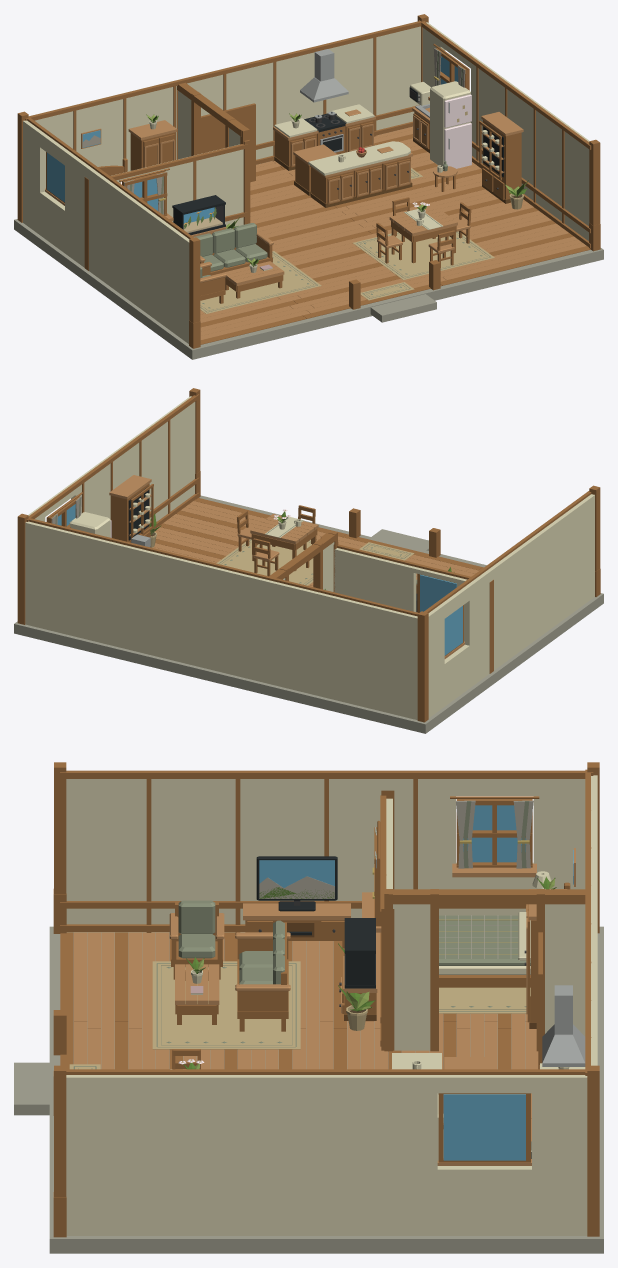
The model's file is HouseInterior_Lv3.fbx.
3 renders of one model, top to bottom at view 1: azimuth 30°, elevation 25°; view 2: azimuth 150°, elevation 25°; view 3: azimuth 270°, elevation 25°, orthographic. The views are drawn at different scales.
Parts seen in each view (by area): view 1: Floor_Planks_Staggered.002_FBX, BackWall.002_FBX, LeftWall.002_FBX, RightWall.002_FBX, Master_FrontPartition_FBX, Master_SidePartition_Door_FBX, Fridge_Cream_TwoDoor.002_FBX, Cupboard_Glass.001_FBX, Exterior_CornerPosts.002_FBX, Rug_Dining4.002_FBX, LivingSofa_FBX, Entrance_Step_CutawayPosts.002_FBX (+22 smaller); view 2: BackWall.002_FBX, LeftWall.002_FBX, Floor_Planks_Staggered.002_FBX, RightWall.002_FBX, Master_FrontPartition_FBX, Exterior_CornerPosts.002_FBX, Cupboard_Glass.001_FBX, Master_SidePartition_Door_FBX, Rug_Dining4.002_FBX, Entrance_Step_CutawayPosts.002_FBX, DiningTable.002_FBX, Fridge_Cream_TwoDoor.002_FBX (+2 smaller); view 3: RightWall.002_FBX, LeftWall.002_FBX, Floor_Planks_Staggered.002_FBX, Master_SidePartition_Door_FBX, Rug_Lounge.001_FBX, Bed_Double_Sage.001_FBX, Exterior_CornerPosts.002_FBX, LivingSofa_FBX, TV_Flat_Landscape.002_FBX, BackWall.002_FBX, Entrance_Step_CutawayPosts.002_FBX, Master_FrontPartition_FBX (+11 smaller).
Boxes of the visible parts, left/top/right/bottom form: Floor_Planks_Staggered.002_FBX: left=14, top=126, right=603, bottom=359; BackWall.002_FBX: left=25, top=21, right=425, bottom=188; LeftWall.002_FBX: left=23, top=117, right=193, bottom=343; RightWall.002_FBX: left=418, top=20, right=591, bottom=248; Master_FrontPartition_FBX: left=84, top=140, right=250, bottom=270; Master_SidePartition_Door_FBX: left=177, top=82, right=255, bottom=182; Fridge_Cream_TwoDoor.002_FBX: left=430, top=81, right=471, bottom=168; Cupboard_Glass.001_FBX: left=479, top=112, right=523, bottom=203; Exterior_CornerPosts.002_FBX: left=17, top=14, right=600, bottom=322; Rug_Dining4.002_FBX: left=353, top=231, right=494, bottom=280; LivingSofa_FBX: left=194, top=223, right=273, bottom=275; Entrance_Step_CutawayPosts.002_FBX: left=189, top=223, right=600, bottom=348; BackWall.002_FBX: left=25, top=518, right=418, bottom=719; LeftWall.002_FBX: left=424, top=491, right=594, bottom=717; Floor_Planks_Staggered.002_FBX: left=14, top=495, right=603, bottom=733; RightWall.002_FBX: left=26, top=394, right=199, bottom=529; Master_FrontPartition_FBX: left=333, top=542, right=493, bottom=673; Exterior_CornerPosts.002_FBX: left=17, top=388, right=600, bottom=722; Cupboard_Glass.001_FBX: left=109, top=475, right=153, bottom=547; Master_SidePartition_Door_FBX: left=269, top=531, right=337, bottom=591; Rug_Dining4.002_FBX: left=216, top=539, right=313, bottom=585; Entrance_Step_CutawayPosts.002_FBX: left=195, top=471, right=600, bottom=596; DiningTable.002_FBX: left=250, top=514, right=318, bottom=570; Fridge_Cream_TwoDoor.002_FBX: left=69, top=512, right=111, bottom=537; RightWall.002_FBX: left=66, top=1069, right=587, bottom=1235; LeftWall.002_FBX: left=60, top=770, right=593, bottom=932; Floor_Planks_Staggered.002_FBX: left=49, top=926, right=603, bottom=1253; Master_SidePartition_Door_FBX: left=384, top=889, right=585, bottom=1069; Rug_Lounge.001_FBX: left=152, top=961, right=300, bottom=1049; Bed_Double_Sage.001_FBX: left=439, top=882, right=570, bottom=987; Exterior_CornerPosts.002_FBX: left=54, top=762, right=599, bottom=1236; LivingSofa_FBX: left=235, top=920, right=290, bottom=1031; TV_Flat_Landscape.002_FBX: left=256, top=856, right=337, bottom=911; BackWall.002_FBX: left=585, top=769, right=597, bottom=1075; Entrance_Step_CutawayPosts.002_FBX: left=14, top=889, right=66, bottom=1237; Master_FrontPartition_FBX: left=362, top=790, right=394, bottom=1050.
Bounding box in the file's own units: 11.22 × 3.04 × 8.96.
